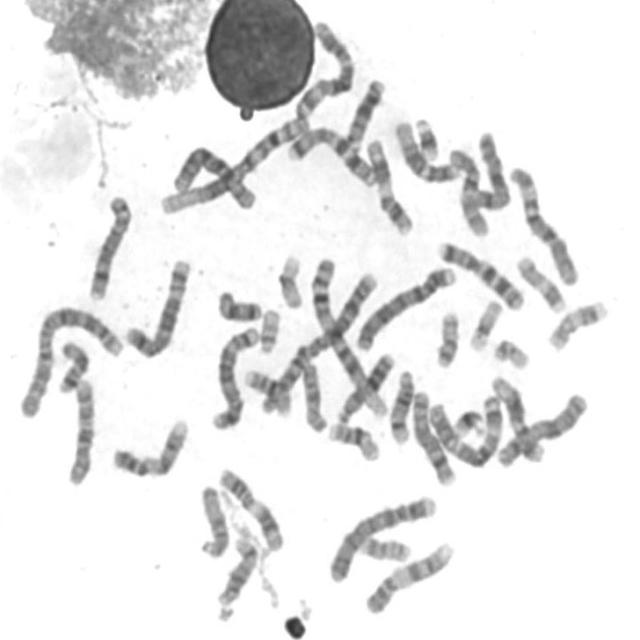A1: (156, 109, 313, 216), (305, 254, 390, 421)
A2: (255, 263, 381, 417), (12, 298, 124, 421)
A3: (290, 15, 358, 121), (424, 389, 506, 470)
B4: (324, 489, 439, 585), (351, 260, 459, 353)
B5: (120, 251, 194, 360), (207, 320, 262, 432)
C10: (443, 141, 492, 239), (62, 372, 98, 488)
C11: (214, 461, 286, 554), (361, 132, 415, 237)
C12: (487, 370, 548, 465), (391, 113, 464, 185)
C6: (505, 159, 582, 287), (167, 140, 260, 212)
C7: (432, 234, 528, 313), (281, 120, 380, 189)
C8: (82, 189, 134, 303), (408, 384, 459, 488)
C9: (361, 535, 457, 616), (106, 411, 192, 480)
D13: (332, 346, 398, 425), (339, 72, 388, 150)
D14: (212, 532, 260, 610), (385, 364, 417, 446)
D15: (194, 479, 232, 561), (296, 355, 330, 434)
E16: (238, 363, 295, 416), (323, 416, 382, 463)
E17: (543, 293, 611, 354), (512, 250, 570, 314)
E18: (53, 334, 91, 395), (212, 284, 264, 324)
F19: (464, 294, 505, 354), (272, 248, 306, 310)
F20: (430, 304, 462, 370), (356, 530, 412, 563)
G21: (410, 112, 442, 162), (447, 402, 488, 440)
G22: (489, 332, 532, 371), (254, 303, 283, 356)
X: (491, 387, 591, 469), (469, 125, 514, 212)
